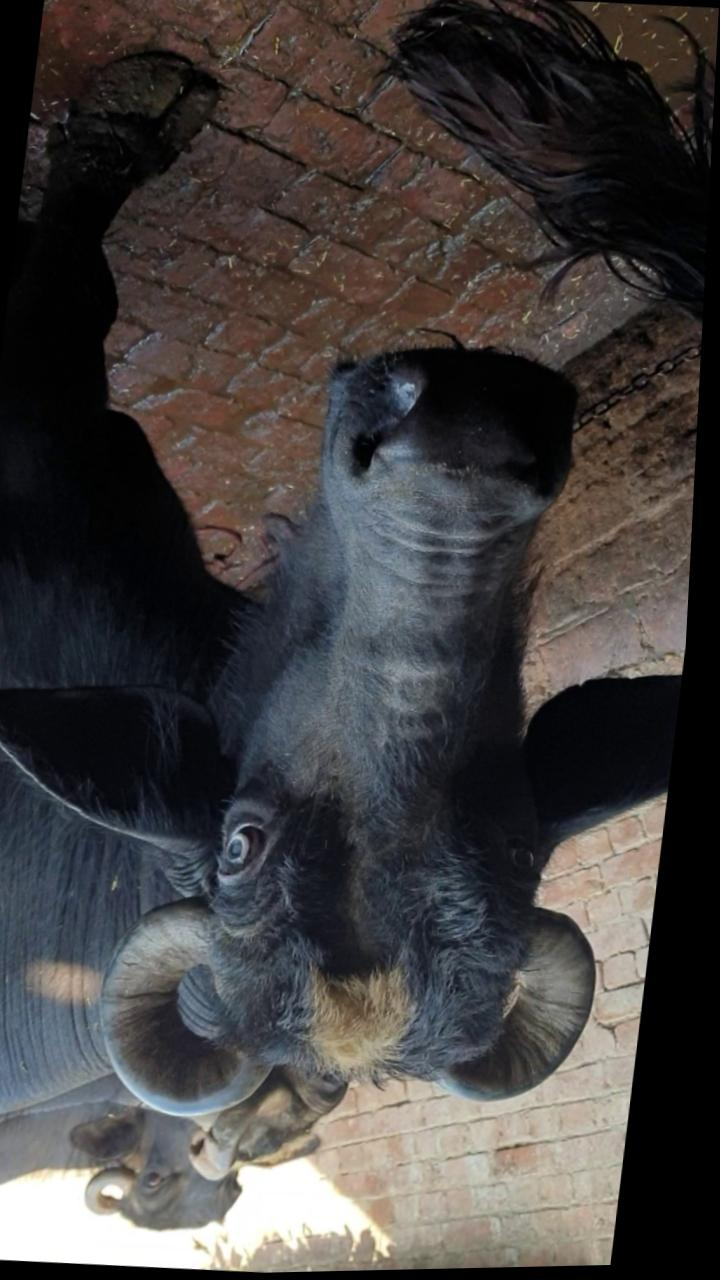cows: (151, 332, 678, 1052), (148, 1103, 299, 1275)
